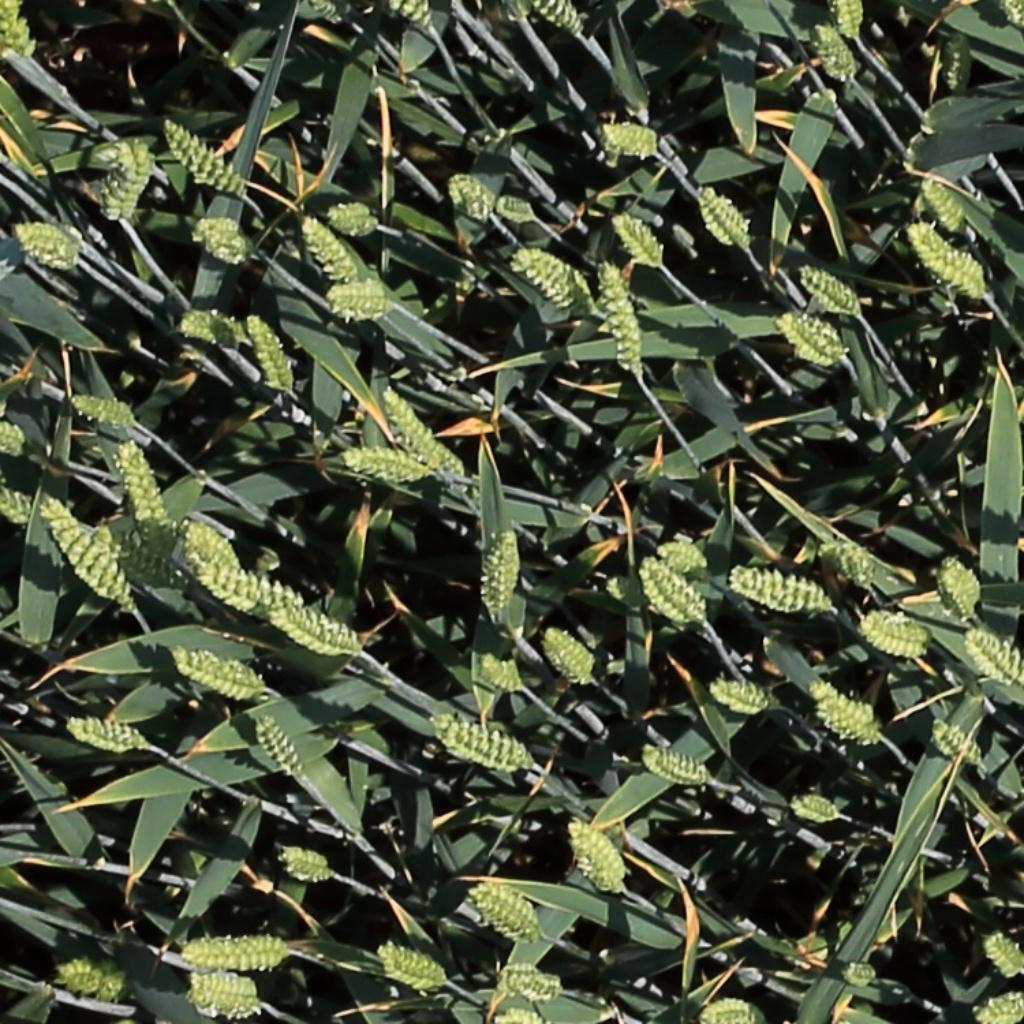0-0: (34, 501, 130, 616), (379, 382, 466, 481), (159, 113, 244, 195), (116, 435, 173, 551), (191, 558, 304, 611), (909, 222, 988, 296), (599, 256, 647, 376), (182, 916, 299, 965), (431, 718, 531, 770), (567, 816, 630, 898), (297, 208, 361, 286), (243, 305, 297, 397), (640, 557, 711, 626), (512, 245, 584, 309), (172, 649, 263, 697), (729, 569, 835, 610), (696, 180, 756, 251), (253, 712, 308, 787), (473, 884, 542, 940), (854, 608, 936, 655), (113, 133, 154, 225), (271, 610, 357, 653), (918, 167, 970, 237), (811, 682, 879, 735), (610, 207, 669, 268), (937, 551, 983, 628), (778, 312, 849, 361), (543, 626, 599, 688), (812, 17, 862, 86), (965, 629, 1022, 689), (316, 271, 390, 317), (800, 263, 864, 315), (190, 214, 254, 266), (378, 944, 449, 987), (185, 521, 241, 574), (480, 528, 513, 615), (931, 719, 987, 770), (66, 719, 150, 753), (821, 542, 879, 591), (12, 223, 79, 264), (641, 749, 712, 787), (491, 525, 520, 618), (191, 978, 275, 1010), (342, 450, 431, 480), (449, 169, 499, 222), (0, 484, 60, 527), (981, 931, 1024, 983), (68, 393, 136, 425), (0, 0, 32, 64), (944, 25, 970, 102), (537, 1, 587, 39), (57, 966, 122, 995), (479, 655, 527, 694), (600, 122, 663, 150), (709, 684, 774, 711), (180, 315, 238, 345), (277, 853, 335, 882), (499, 972, 561, 999), (393, 0, 435, 34), (659, 544, 709, 570), (839, 0, 866, 45), (793, 800, 843, 824), (977, 998, 1024, 1022), (326, 207, 378, 228), (494, 195, 539, 218), (0, 413, 25, 454), (311, 0, 352, 25), (703, 1004, 759, 1022), (1000, 0, 1024, 31), (498, 1011, 543, 1024)
